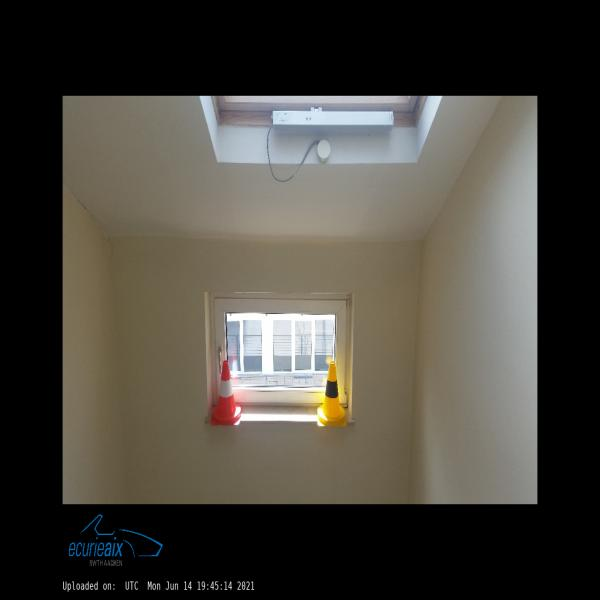orange_cone: (211, 360, 242, 426)
yellow_cone: (316, 361, 346, 427)
